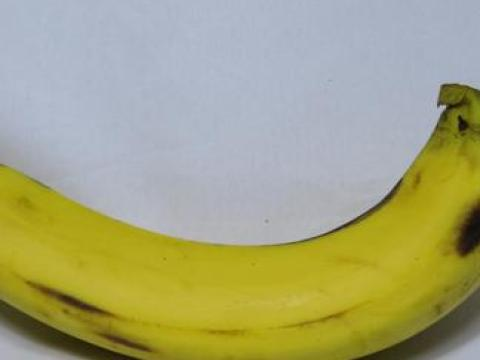freshripe: (0, 75, 479, 359)
